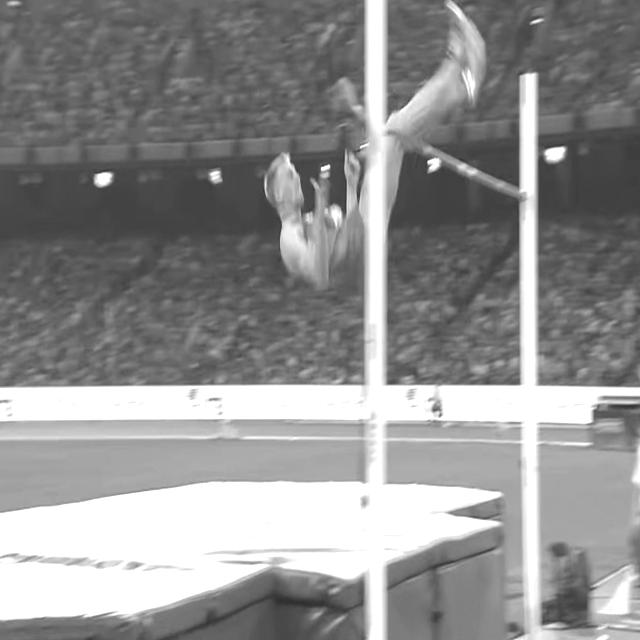land: (265, 0, 485, 291)
